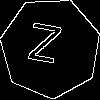Z: (25, 23, 63, 73)
